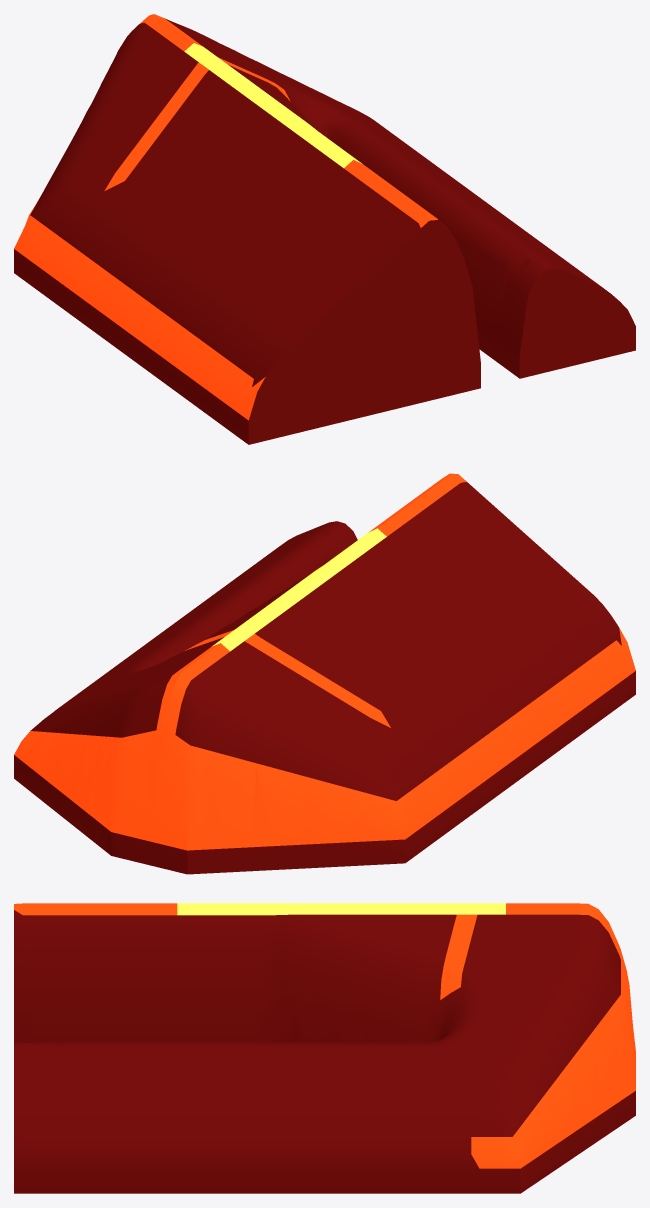
Rendered from stargate_top.glb.
The picture shows the model from 3 angles, top to bottom: view 1: azimuth 30°, elevation 25°; view 2: azimuth 150°, elevation 25°; view 3: azimuth 270°, elevation 25°; orthographic projection. The views are drawn at different scales.
Visible parts, largest first — view 1: blade; view 2: blade; view 3: blade.
Part boxes in pixels (left/top/right/bottom): blade: left=14, top=14, right=635, bottom=444; blade: left=14, top=473, right=635, bottom=874; blade: left=14, top=903, right=635, bottom=1193.
Bounding box in the file's own units: 20 × 9 × 27.
